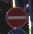No entry: (5, 6, 28, 29)
